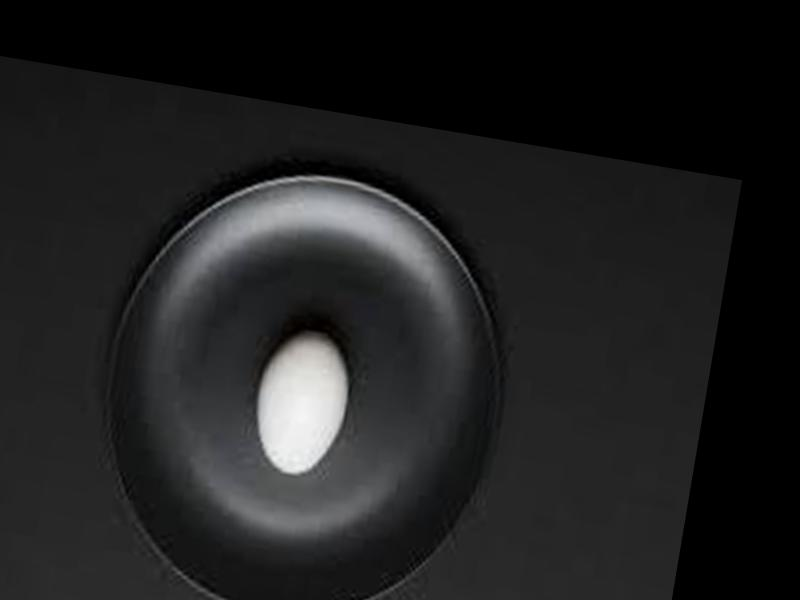Eggs: (245, 326, 357, 480)
